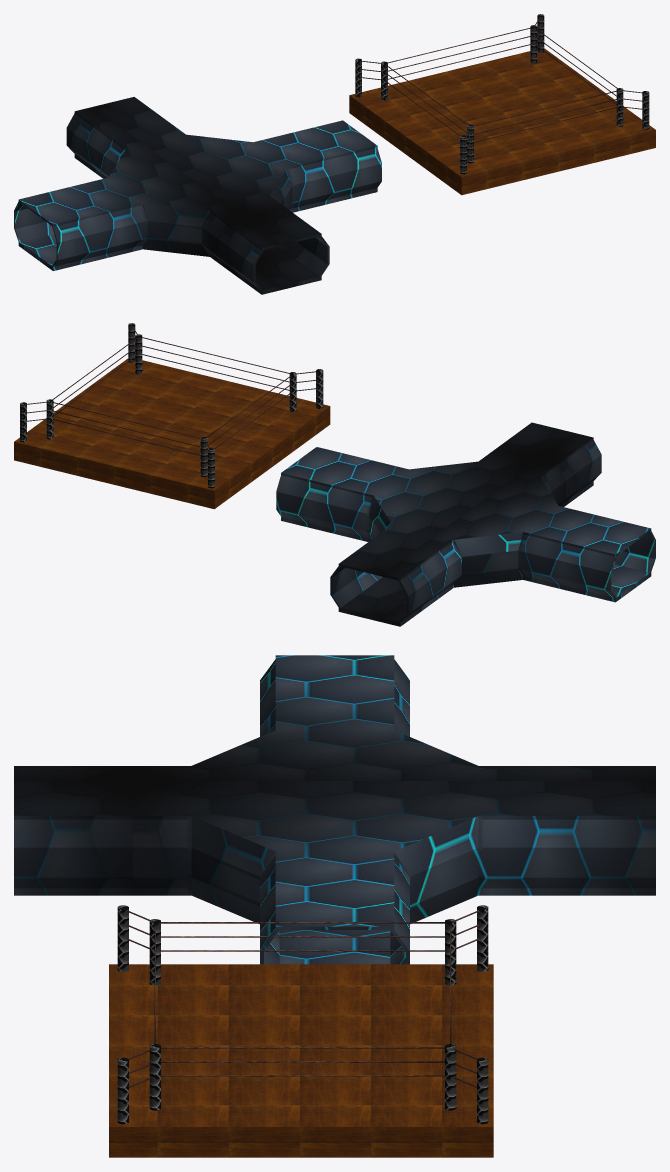
Rendered from professional_boxing_ring_arena.glb.
3 views of the same model, one above another, from view 1: azimuth 30°, elevation 25°; view 2: azimuth 150°, elevation 25°; view 3: azimuth 270°, elevation 25° (orthographic). The views are drawn at different scales.
Visible parts, largest first — view 1: HFBXASC195FBXASC188lle, DefaultFBXASC032Hardwood; view 2: HFBXASC195FBXASC188lle, DefaultFBXASC032Hardwood; view 3: HFBXASC195FBXASC188lle, DefaultFBXASC032Hardwood, DefaultFBXASC032Metal (×8).
Part boxes in pixels (bbox=[...]): HFBXASC195FBXASC188lle: bbox=[14, 97, 381, 294]; DefaultFBXASC032Hardwood: bbox=[349, 48, 655, 195]; HFBXASC195FBXASC188lle: bbox=[276, 422, 655, 626]; DefaultFBXASC032Hardwood: bbox=[14, 358, 330, 509]; HFBXASC195FBXASC188lle: bbox=[14, 655, 655, 964]; DefaultFBXASC032Hardwood: bbox=[109, 964, 493, 1157]; DefaultFBXASC032Metal (×8): bbox=[117, 905, 488, 1124].
Size of the model in its own units: 371 by 49.7 by 217.
Materials: 4 (4 with a texture image).
